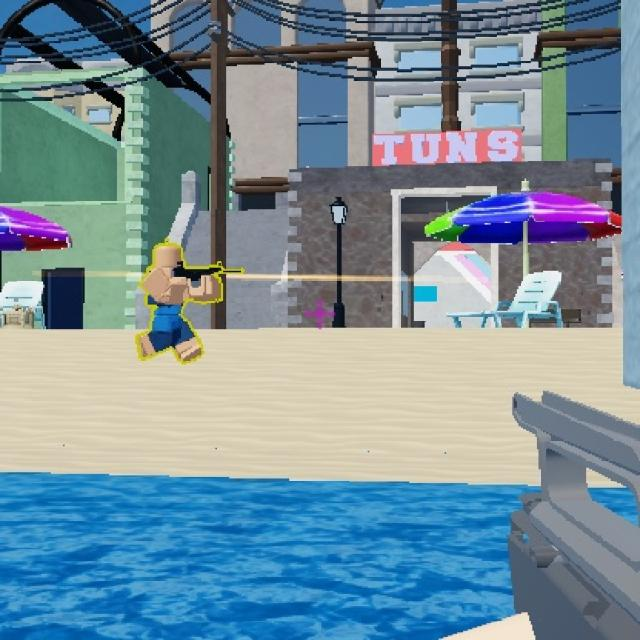player: (146, 236, 208, 364)
